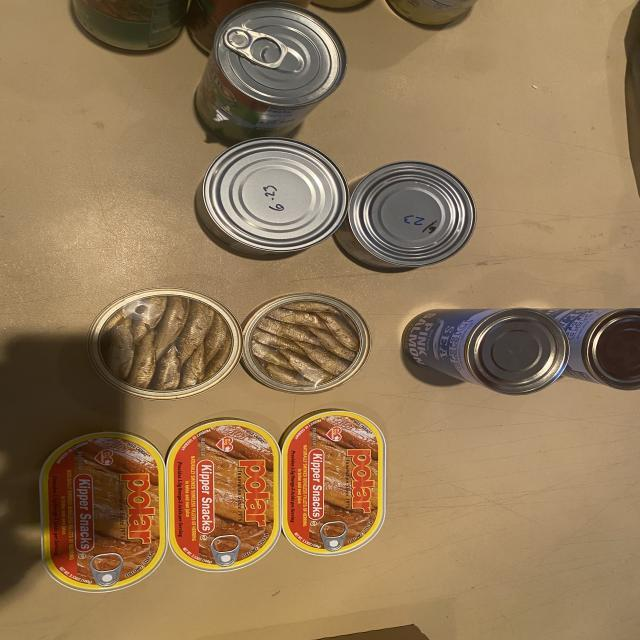Canned Fish: (40, 432, 167, 592), (197, 138, 348, 255), (167, 418, 280, 571), (88, 288, 242, 399), (335, 161, 475, 269), (282, 410, 385, 556), (243, 294, 370, 392)
Canned Food: (195, 2, 347, 141), (402, 308, 568, 395), (542, 309, 640, 390), (185, 0, 312, 52), (73, 0, 188, 50), (387, 0, 477, 25), (312, 0, 368, 10)
